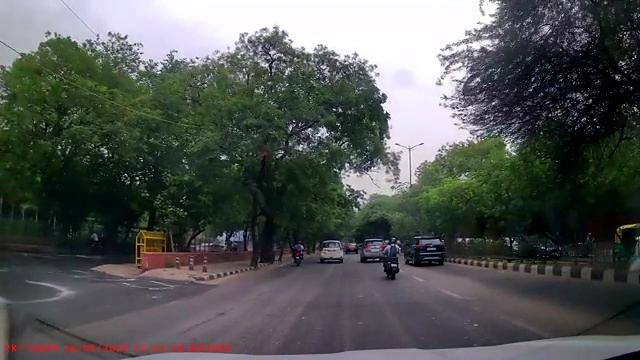motorcycle_with_helmet: (381, 236, 402, 280)
